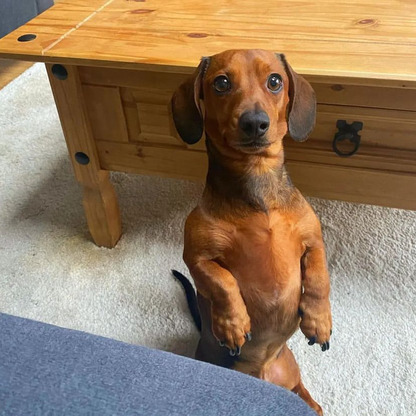dachshund: (155, 37, 366, 411)
